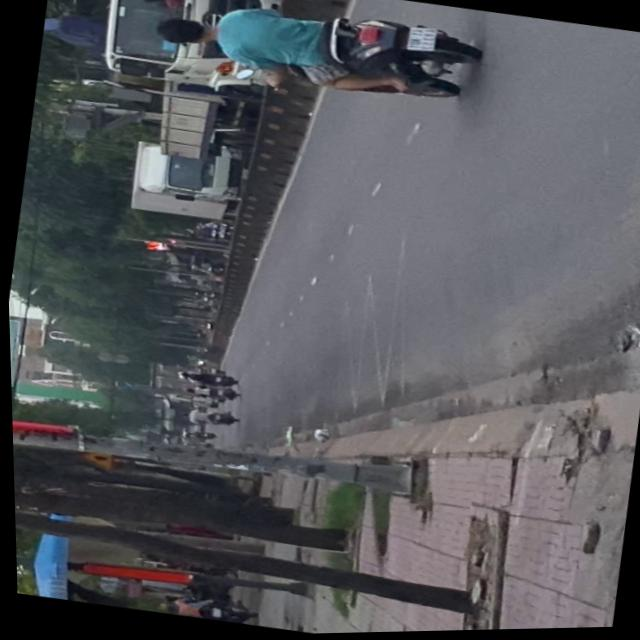licenseplate: (144, 0, 486, 119)
motorcyclist: (151, 12, 216, 52)
nohelmet: (403, 26, 435, 54)
